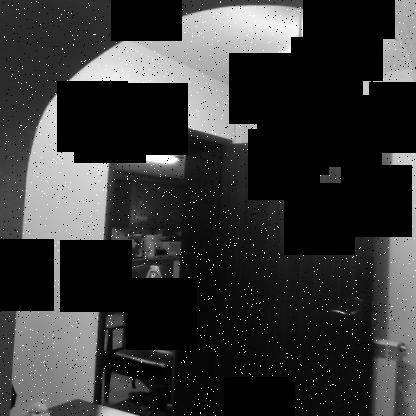Porte: (92, 106, 382, 415)
